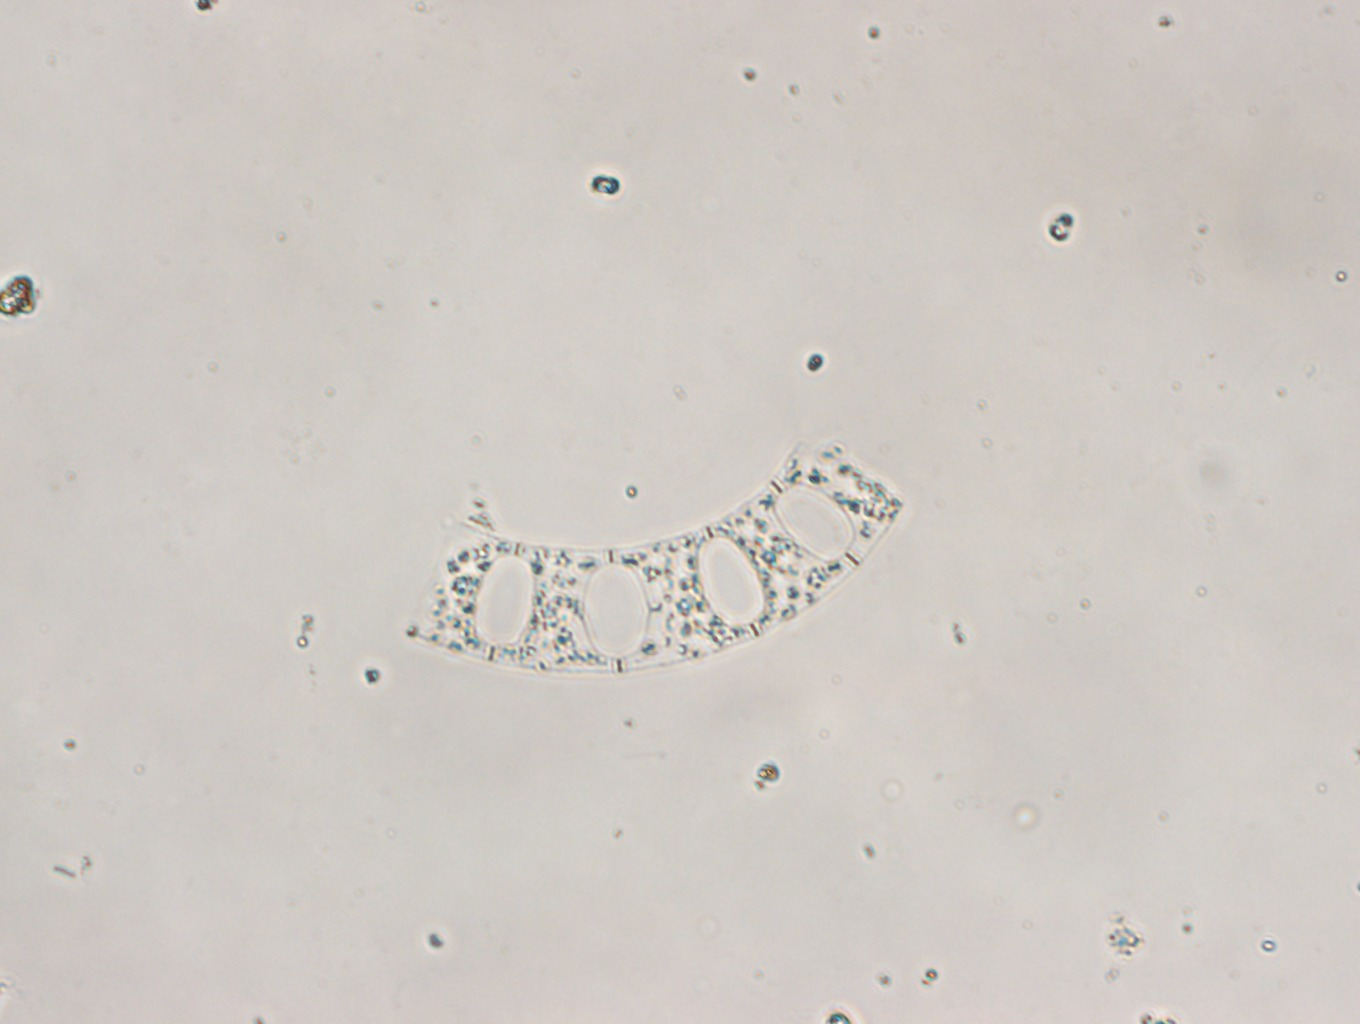eucampia: (396, 431, 905, 678)
